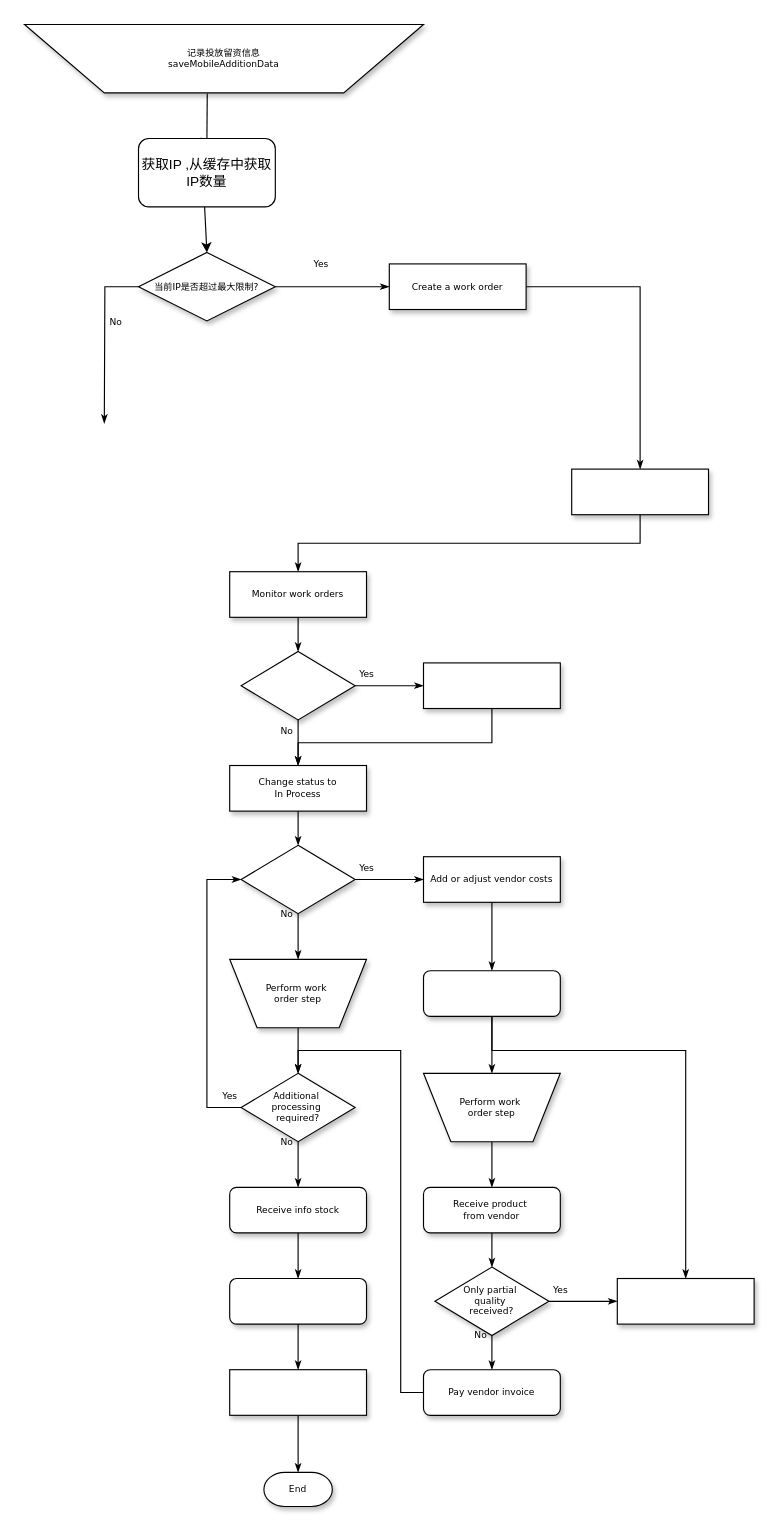
The diagram is 781 pixels wide and 1534 high, and some of its shapes have lost their labels. The centre of each missing label's shape, as x and y in pixels:
"Add materials to work order processes" belongs at point 640,493.
"Change status to Complete" belongs at point 298,1393.
"Create work order backorder" belongs at point 686,1302.
"Material quantities not in stock?" belongs at point 298,687.
"Procedure or transfer materials" belongs at point 492,686.
"Ship materials to vendor" belongs at point 492,994.
"Ship product on order if needed" belongs at point 298,1302.
"Step performed by outside vendor?" belongs at point 298,881.
